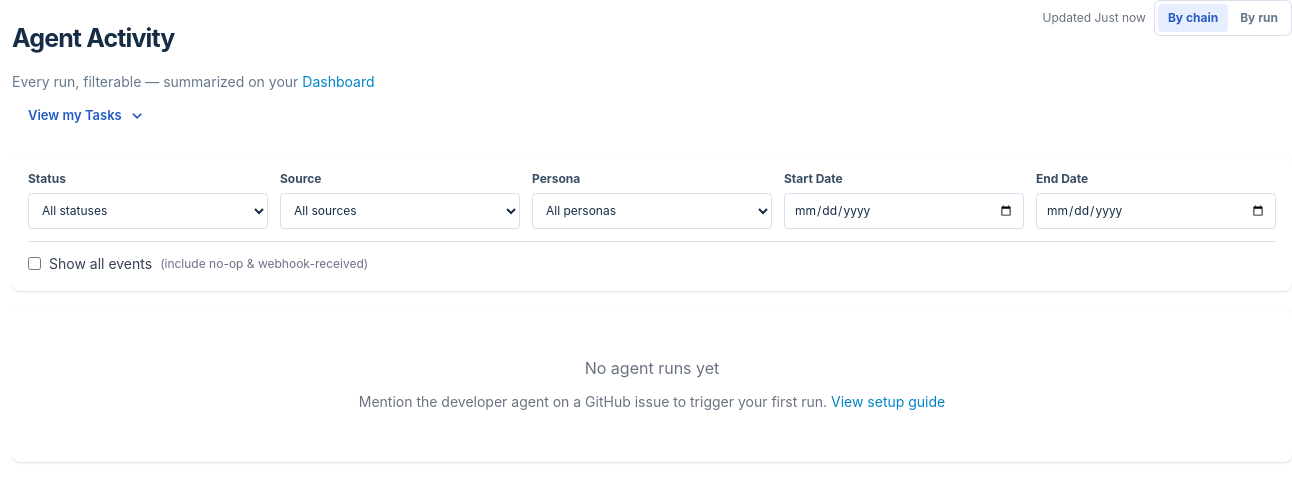
Test: AgentActivity Page › skip reasons (Issue #4020) › prefers a real summary over the reason when both exist
Click the tab "By run" at [1259, 18], box [1230,4,1288,32]
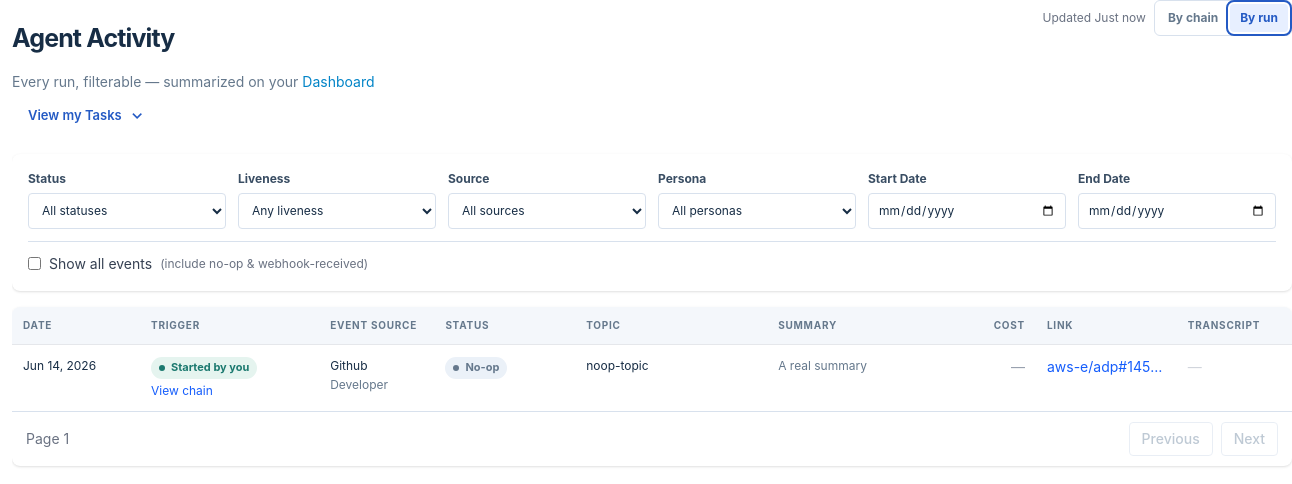
expect the cell "A real summary" does not show "No agent was mentioned": met, box [767,345,959,411]
expect the cell "A real summary" is shown: met, box [767,345,959,411]
